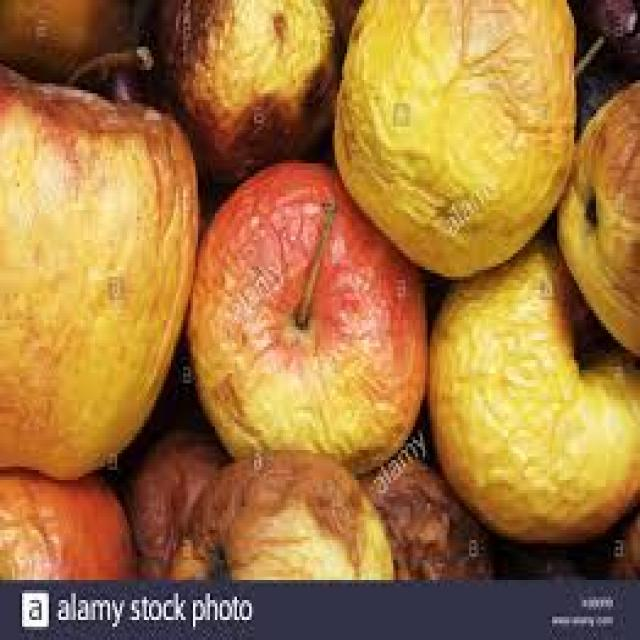organic waste: (0, 0, 638, 577), (0, 39, 195, 473), (185, 157, 428, 473), (332, 0, 576, 273), (422, 230, 638, 527), (141, 0, 339, 173), (164, 450, 391, 573), (552, 74, 638, 354), (117, 416, 230, 576), (364, 454, 489, 574), (0, 469, 134, 573), (0, 0, 132, 73), (579, 0, 637, 77), (488, 533, 588, 577), (93, 50, 161, 107), (594, 500, 638, 573)
